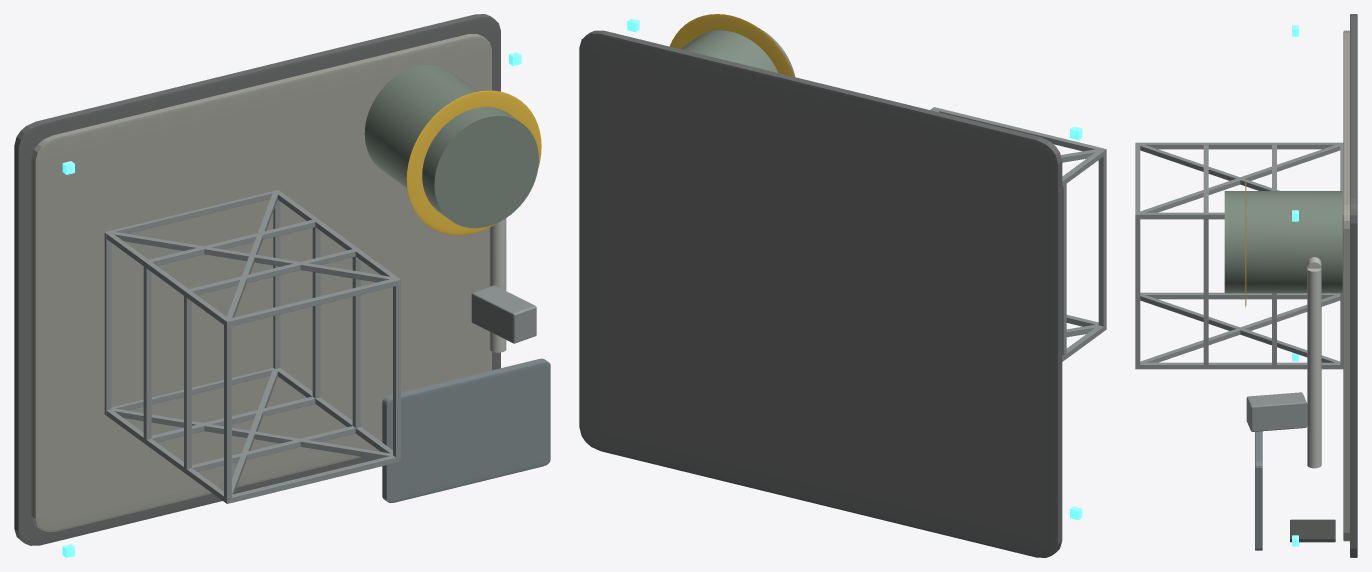
Rendered from b-11-oil-pump-lod2.glb.
3 renders of one model, left to right at view 1: azimuth 30°, elevation 25°; view 2: azimuth 150°, elevation 25°; view 3: azimuth 270°, elevation 25°, orthographic. The views are drawn at different scales.
Visible parts, largest first — view 1: foundation_inner_pad, foundation, pump_house_roof, oil_storage_tank_vessel, oil_storage_tank_ring_high, pumpjack_horsehead, primary_oil_derrick_brace_a_2.1, primary_oil_derrick_brace_a_-2.1, primary_oil_derrick_beam_y_1_w, primary_oil_derrick_beam_x_3_n, primary_oil_derrick_beam_x_3_s, oil_export_pipe_segment_2 (+19 smaller); view 2: foundation, oil_storage_tank_ring_high, oil_storage_tank_vessel, primary_oil_derrick_beam_y_3_w, primary_oil_derrick_beam_x_3_n, primary_oil_derrick_beam_y_2_w; view 3: oil_storage_tank_vessel, foundation, foundation_inner_pad, oil_export_pipe_segment_2, pumpjack_horsehead, primary_oil_derrick_column_e_s, primary_oil_derrick_column_w_n, primary_oil_derrick_brace_a_2.1, primary_oil_derrick_brace_a_-2.1, primary_oil_derrick_brace_b_-2.1, primary_oil_derrick_column_w_s, pump_house_door_1 (+9 smaller).
Boxes of the visible parts, bbox=[...] form: foundation_inner_pad: bbox=[31, 34, 491, 531]; foundation: bbox=[14, 14, 500, 545]; pump_house_roof: bbox=[382, 358, 550, 502]; oil_storage_tank_vessel: bbox=[364, 65, 538, 228]; oil_storage_tank_ring_high: bbox=[406, 90, 541, 235]; pumpjack_horsehead: bbox=[471, 285, 536, 343]; primary_oil_derrick_brace_a_2.1: bbox=[111, 231, 392, 282]; primary_oil_derrick_brace_a_-2.1: bbox=[111, 408, 392, 459]; primary_oil_derrick_beam_y_1_w: bbox=[143, 260, 151, 439]; primary_oil_derrick_beam_x_3_n: bbox=[224, 278, 400, 326]; primary_oil_derrick_beam_x_3_s: bbox=[224, 455, 400, 503]; oil_export_pipe_segment_2: bbox=[489, 218, 506, 352]; foundation: bbox=[579, 30, 1062, 557]; oil_storage_tank_ring_high: bbox=[669, 14, 794, 76]; oil_storage_tank_vessel: bbox=[681, 28, 795, 76]; primary_oil_derrick_beam_y_3_w: bbox=[1098, 148, 1106, 326]; primary_oil_derrick_beam_x_3_n: bbox=[935, 108, 1106, 155]; primary_oil_derrick_beam_y_2_w: bbox=[1062, 178, 1066, 355]; oil_storage_tank_vessel: bbox=[1224, 191, 1342, 293]; foundation: bbox=[1350, 14, 1357, 557]; foundation_inner_pad: bbox=[1343, 30, 1349, 541]; oil_export_pipe_segment_2: bbox=[1307, 268, 1321, 468]; pumpjack_horsehead: bbox=[1246, 392, 1307, 431]; primary_oil_derrick_column_e_s: bbox=[1140, 362, 1340, 369]; primary_oil_derrick_column_w_n: bbox=[1140, 142, 1340, 149]; primary_oil_derrick_brace_a_2.1: bbox=[1140, 144, 1340, 212]; primary_oil_derrick_brace_a_-2.1: bbox=[1140, 294, 1340, 362]; primary_oil_derrick_brace_b_-2.1: bbox=[1140, 294, 1340, 362]; primary_oil_derrick_column_w_s: bbox=[1140, 292, 1340, 299]; pump_house_door_1: bbox=[1290, 519, 1335, 542].
Size of what is drawn, in the model's own units: 12 by 10 by 5.65.
